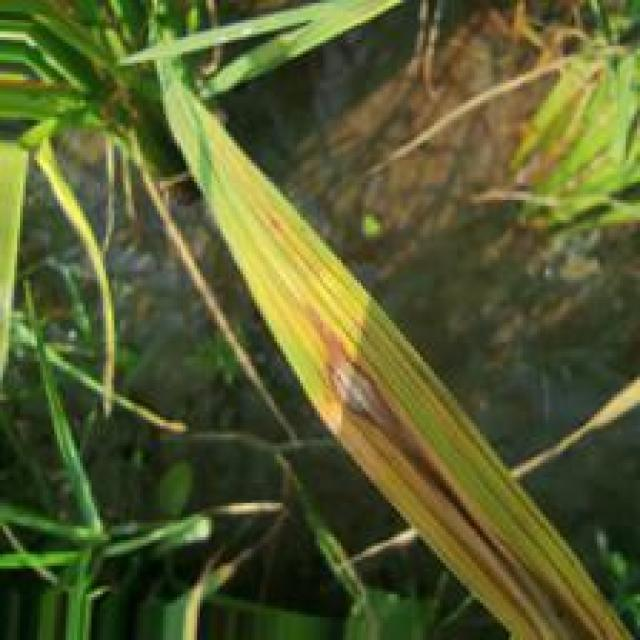Leaf_Blast: (305, 301, 604, 640)
